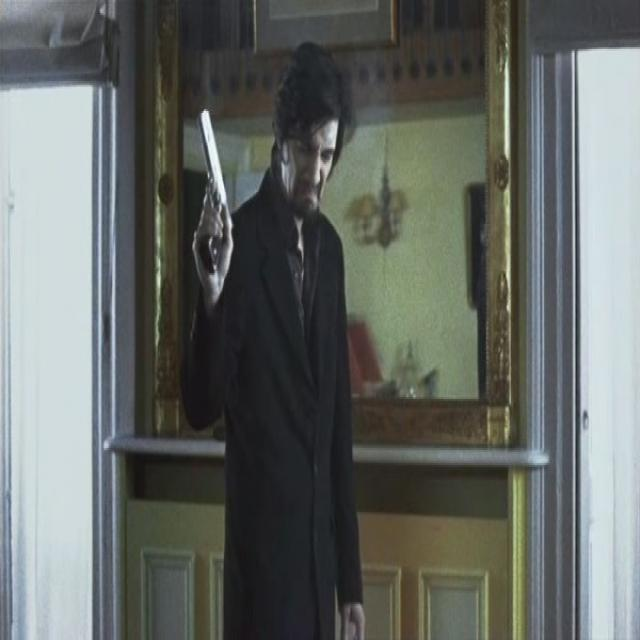weapons: (182, 92, 242, 288)
